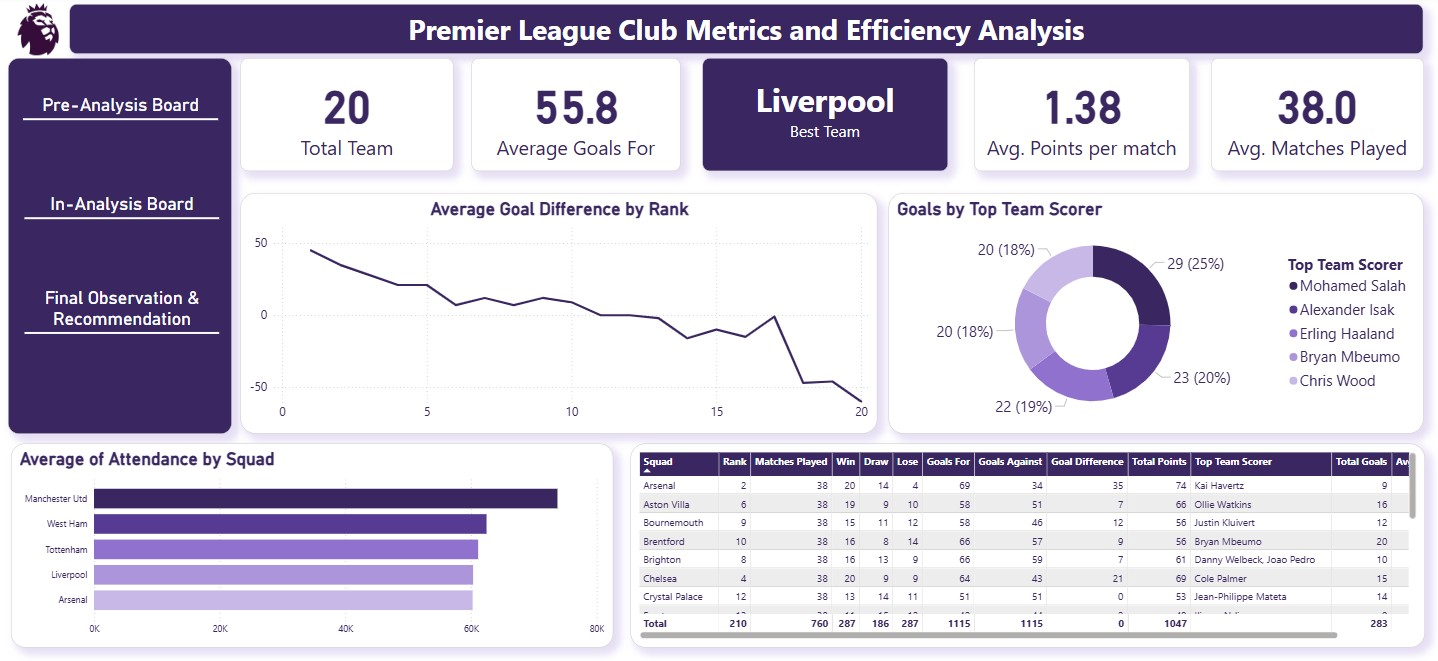

The page's visual inventory and layout, read from the dashboard file:
{"tool":"powerbi","page":{"name":"DashBoard","canvas":[1950,900],"ordinal":0},"visuals":[{"type":"textbox","box":[103.7,12.7,1826.7,67.3],"z":0},{"type":"image","box":[0,5.5,121.9,80.1],"z":1000},{"type":"textbox","box":[20.8,85.4,302.2,507.5],"z":2000},{"type":"card","fields":{"Values":["Premier_league_stats_2024-25.Top Team Scorer"]},"box":[334.8,85.5,287.5,152.8],"z":3000},{"type":"card","fields":{"Values":["Premier_league_stats_2024-25.Goals For"]},"box":[645.9,85.5,282,152.8],"z":4000},{"type":"card","fields":{"Values":["Premier_league_stats_2024-25.Matches Played"]},"box":[1643,85.5,287.5,152.8],"z":5000},{"type":"textbox","box":[957,85.5,331.1,152.8],"z":6000},{"type":"card","fields":{"Values":["Premier_league_stats_2024-25.Avg pts per match"]},"box":[1322.7,85.5,291.1,152.8],"z":7000},{"type":"tableEx","fields":{"Values":["Premier_league_stats_2024-25.Squad","Premier_league_stats_2024-25.Rank","Premier_league_stats_2024-25.Matches Played","Premier_league_stats_2024-25.Win","Premier_league_stats_2024-25.Draw","Premier_league_stats_2024-25.Lose","Premier_league_stats_2024-25.Goals For","Premier_league_stats_2024-25.Goals Against","Premier_league_stats_2024-25.Goal Difference","Premier_league_stats_2024-25.Total Points","Premier_league_stats_2024-25.Top Team Scorer","Premier_league_stats_2024-25.Goals"]},"box":[859.6,605.9,1072,275.4],"z":8000},{"type":"lineChart","fields":{"Category":["Premier_league_stats_2024-25.Rank"],"Y":["Premier_league_stats_2024-25.Goal Difference"]},"box":[334.4,267.5,859.6,324.6],"z":9000},{"type":"donutChart","title":"Goals by Top Team Scorer","fields":{"Category":["Premier_league_stats_2024-25.Top Team Scorer"],"Y":["Premier_league_stats_2024-25.Goals"]},"box":[1207.8,267.5,721.9,324.6],"z":10000},{"type":"barChart","fields":{"Category":["Premier_league_stats_2024-25.Squad"],"Y":["Premier_league_stats_2024-25.Attendance"]},"box":[23.6,605.9,812.4,275.4],"z":11000},{"type":"actionButton","title":"Pre-Analysis Board","box":[40.5,133.6,263.1,44.5],"z":12000},{"type":"actionButton","title":"In-Analysis Board","box":[41.5,267.6,263,43.8],"z":13000},{"type":"actionButton","title":"Final Observation & Recommendation","box":[41.5,394.5,263,69.2],"z":14000}]}

Visuals, with their boxes in screenshot pixels (x1, y1, x2, y2), scaled from the page's 1950x900 canvas onto the 1438x661 screenshot:
textbox: box(76, 9, 1424, 59)
image: box(0, 4, 90, 63)
textbox: box(15, 63, 238, 435)
card - Premier_league_stats_2024-25.Top Team Scorer: box(247, 63, 459, 175)
card - Premier_league_stats_2024-25.Goals For: box(476, 63, 684, 175)
card - Premier_league_stats_2024-25.Matches Played: box(1212, 63, 1424, 175)
textbox: box(706, 63, 950, 175)
card - Premier_league_stats_2024-25.Avg pts per match: box(975, 63, 1190, 175)
tableEx - Premier_league_stats_2024-25.Squad x Premier_league_stats_2024-25.Rank: box(634, 445, 1424, 647)
lineChart - Premier_league_stats_2024-25.Rank x Premier_league_stats_2024-25.Goal Difference: box(247, 196, 880, 435)
"Goals by Top Team Scorer" donutChart: box(891, 196, 1423, 435)
barChart - Premier_league_stats_2024-25.Squad x Premier_league_stats_2024-25.Attendance: box(17, 445, 616, 647)
"Pre-Analysis Board" actionButton: box(30, 98, 224, 131)
"In-Analysis Board" actionButton: box(31, 197, 225, 229)
"Final Observation & Recommendation" actionButton: box(31, 290, 225, 341)
